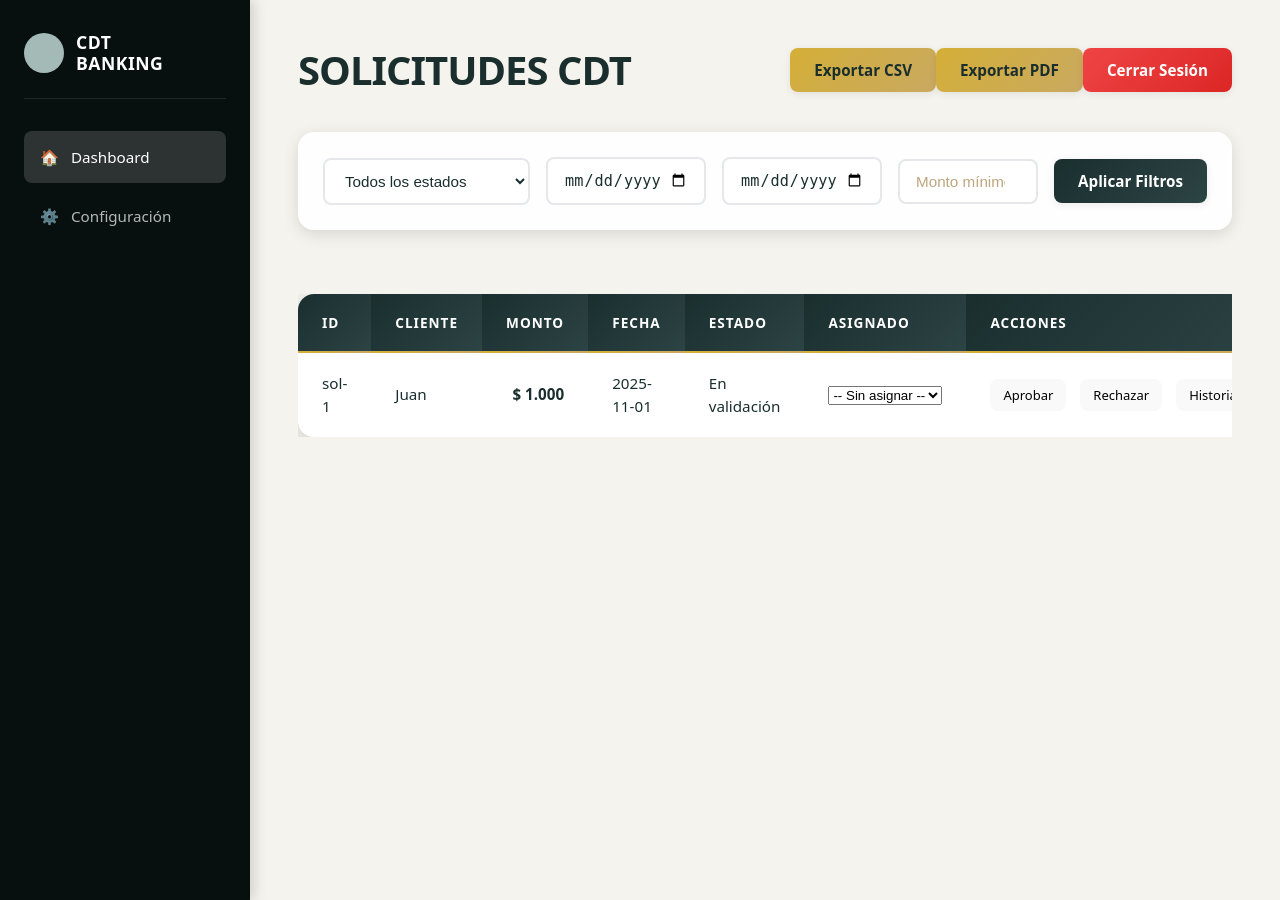
Test: AgenteDashboard Component › debe abrir modal de aprobación
expect the text "Juan" is shown: met, box [371,353,482,437]
Click the button "Aprobar".
click(1028, 395)  # box [990,379,1066,411]
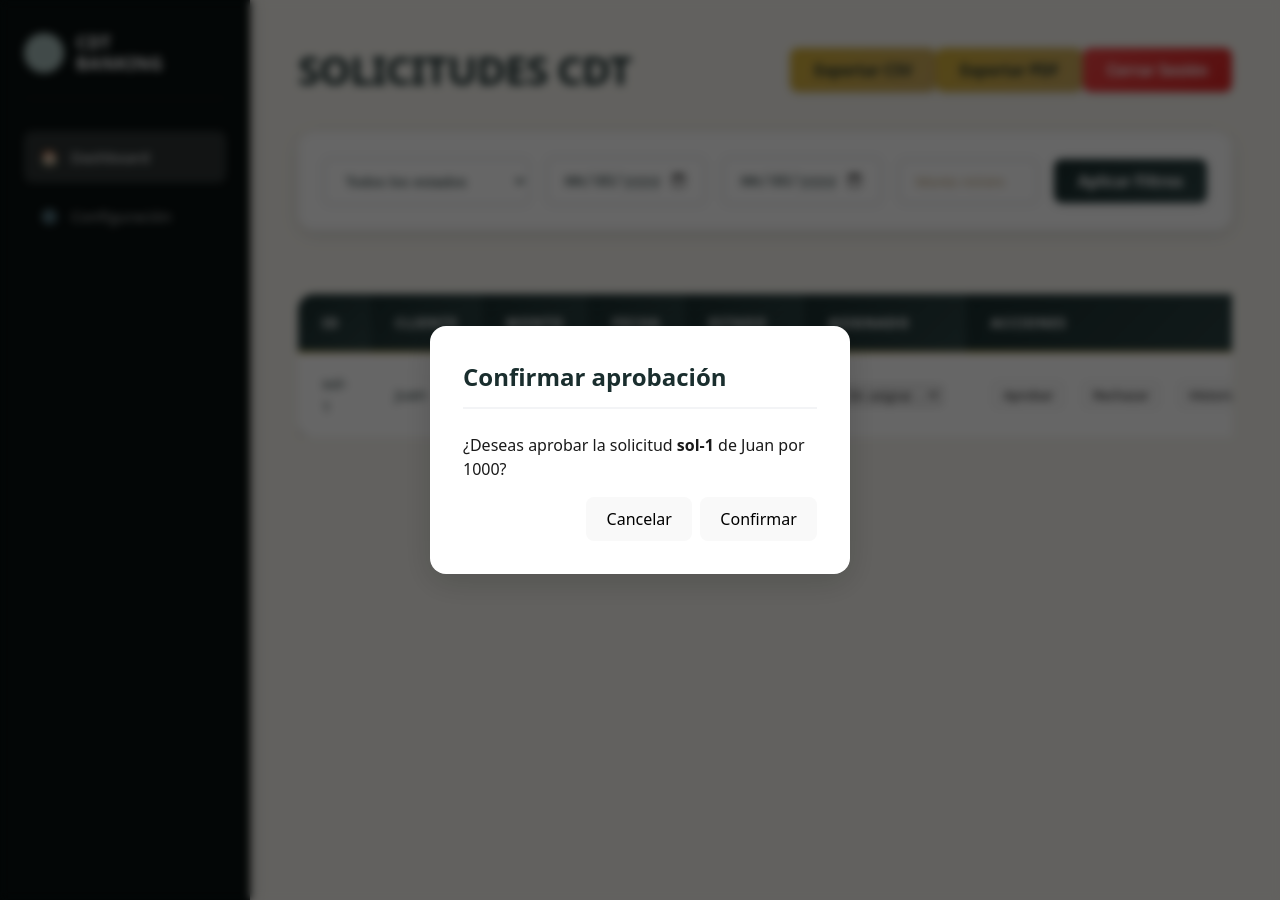
expect the heading "Confirmar aprobación" is shown: met, box [463,359,817,409]
